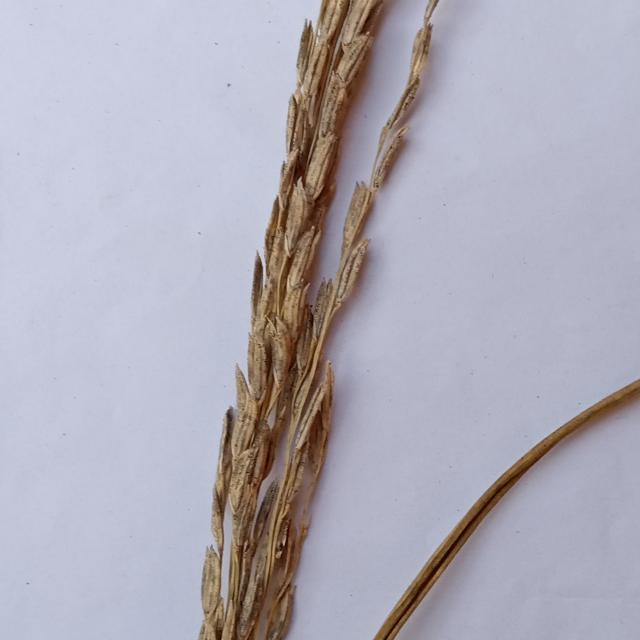Neck_Blast: (203, 0, 382, 639), (240, 94, 423, 638)
